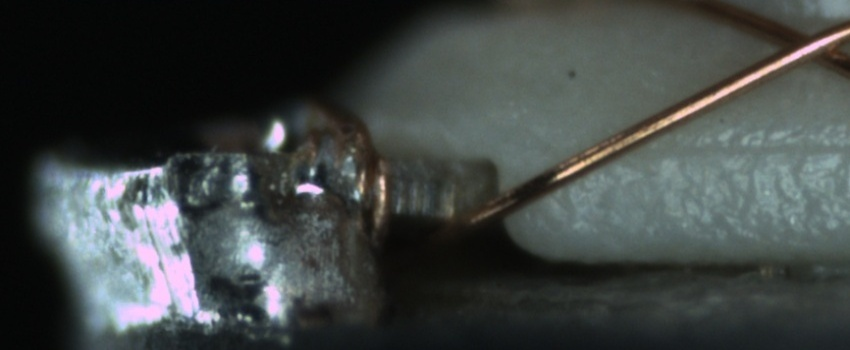CL: (751, 12, 847, 75)
DL: (632, 117, 849, 181)
TE: (303, 106, 394, 262)
